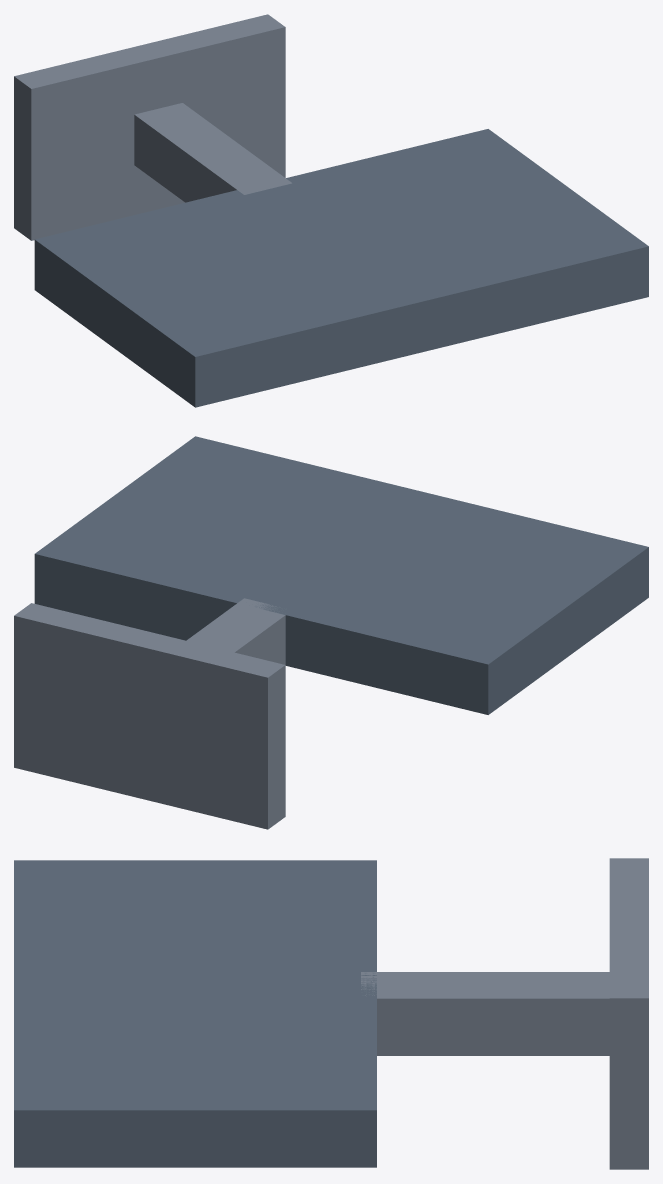
The model's file is monitor.glb.
The picture shows the model from 3 angles, top to bottom: view 1: azimuth 30°, elevation 25°; view 2: azimuth 150°, elevation 25°; view 3: azimuth 270°, elevation 25°; orthographic projection. The views are drawn at different scales.
Visible parts, largest first — view 1: screen_0, base_3, stand_2; view 2: screen_0, base_3, stand_2; view 3: screen_0, stand_2, base_3.
Part boxes in pixels (x1,y1,x2,y2): screen_0: [34, 129, 648, 407]; base_3: [14, 14, 285, 240]; stand_2: [134, 103, 291, 202]; screen_0: [34, 436, 648, 714]; base_3: [14, 603, 285, 829]; stand_2: [186, 598, 285, 664]; screen_0: [14, 860, 376, 1167]; stand_2: [361, 972, 609, 1055]; base_3: [609, 858, 648, 1169].
Bounding box in the file's own units: 0.75 × 0.24 × 0.805.
